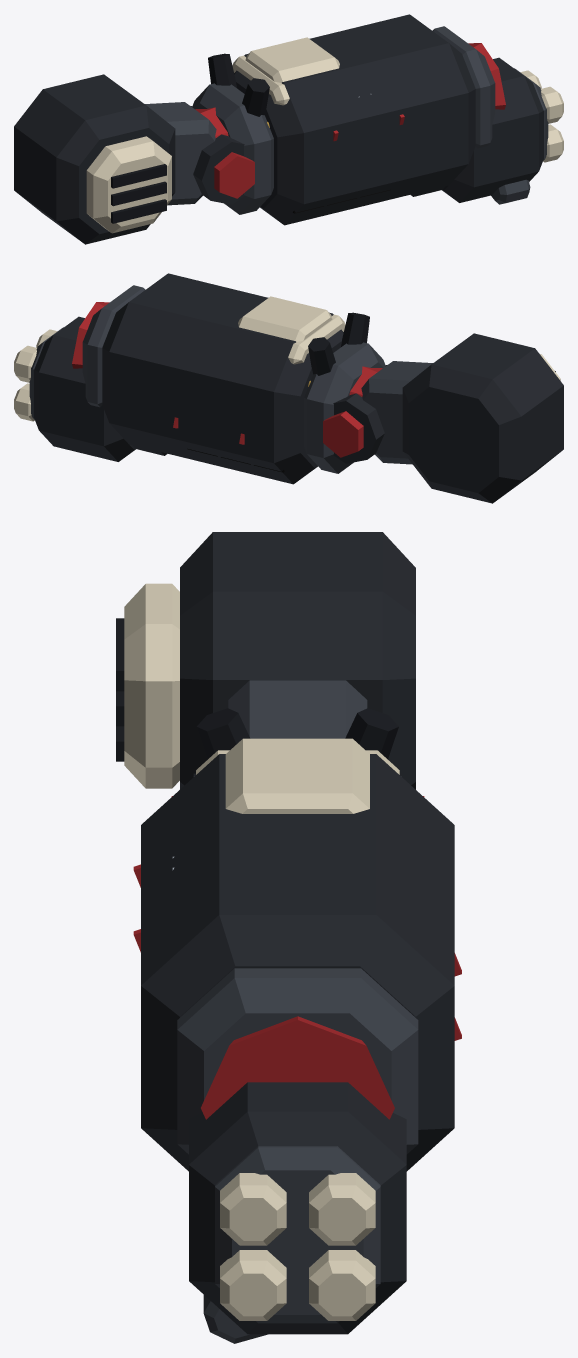
File: sudden-impact-dogleg-arm-v1.glb
3 renders of one model, top to bottom at view 1: azimuth 30°, elevation 25°; view 2: azimuth 150°, elevation 25°; view 3: azimuth 270°, elevation 25°, orthographic. The views are drawn at different scales.
Parts seen in each view (by area): view 1: Sudden Impact · Dogleg Arm, object 11, object 17, object 16, object 14, object 12; view 2: Sudden Impact · Dogleg Arm, object 11, object 15, object 13, object 12; view 3: Sudden Impact · Dogleg Arm, object 11, object 12, object 15, object 16, object 13, object 14, object 17.
Boxes of the visible parts, x1,y1,x2,y2 form: Sudden Impact · Dogleg Arm: (14, 14, 505, 244); object 11: (442, 57, 543, 202); object 17: (491, 179, 530, 204); object 16: (541, 86, 563, 123); object 14: (543, 124, 563, 162); object 12: (514, 68, 548, 160); Sudden Impact · Dogleg Arm: (72, 273, 563, 503); object 11: (34, 316, 135, 461); object 15: (14, 345, 36, 382); object 13: (14, 383, 34, 421); object 12: (29, 327, 63, 419); Sudden Impact · Dogleg Arm: (116, 532, 461, 1171); object 11: (189, 1082, 406, 1334); object 12: (215, 1146, 380, 1323); object 15: (309, 1173, 375, 1245); object 16: (220, 1173, 286, 1245); object 13: (309, 1250, 375, 1320); object 14: (220, 1250, 286, 1320); object 17: (203, 1295, 267, 1343).
Size of the model in its own units: 8.51 by 3.03 by 2.49.
